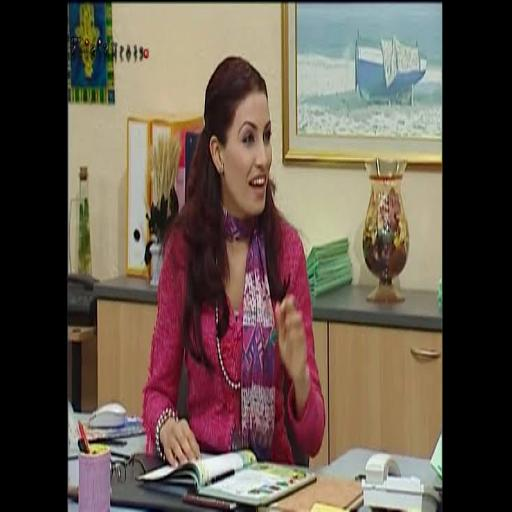Dalanda: (206, 57, 272, 217)
